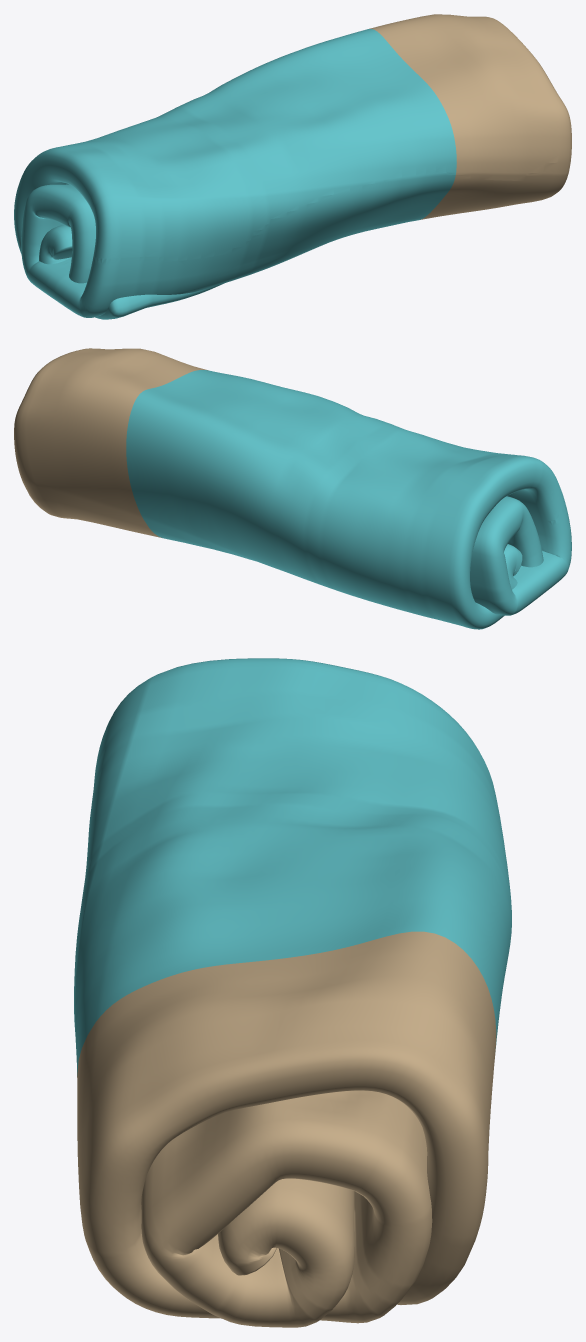
The model's file is 수건wetv2.fbx.
3 views of the same model, one above another, from view 1: azimuth 30°, elevation 25°; view 2: azimuth 150°, elevation 25°; view 3: azimuth 270°, elevation 25° (orthographic). The views are drawn at different scales.
Visible parts, largest first — view 1: pCube8; view 2: pCube8; view 3: pCube8.
Boxes of the visible parts, x1,y1,x2,y2 form: pCube8: (14, 14, 571, 319); pCube8: (14, 348, 571, 629); pCube8: (74, 658, 511, 1327).
Size of the model in its own units: 66.7 by 21.51 by 26.25.
